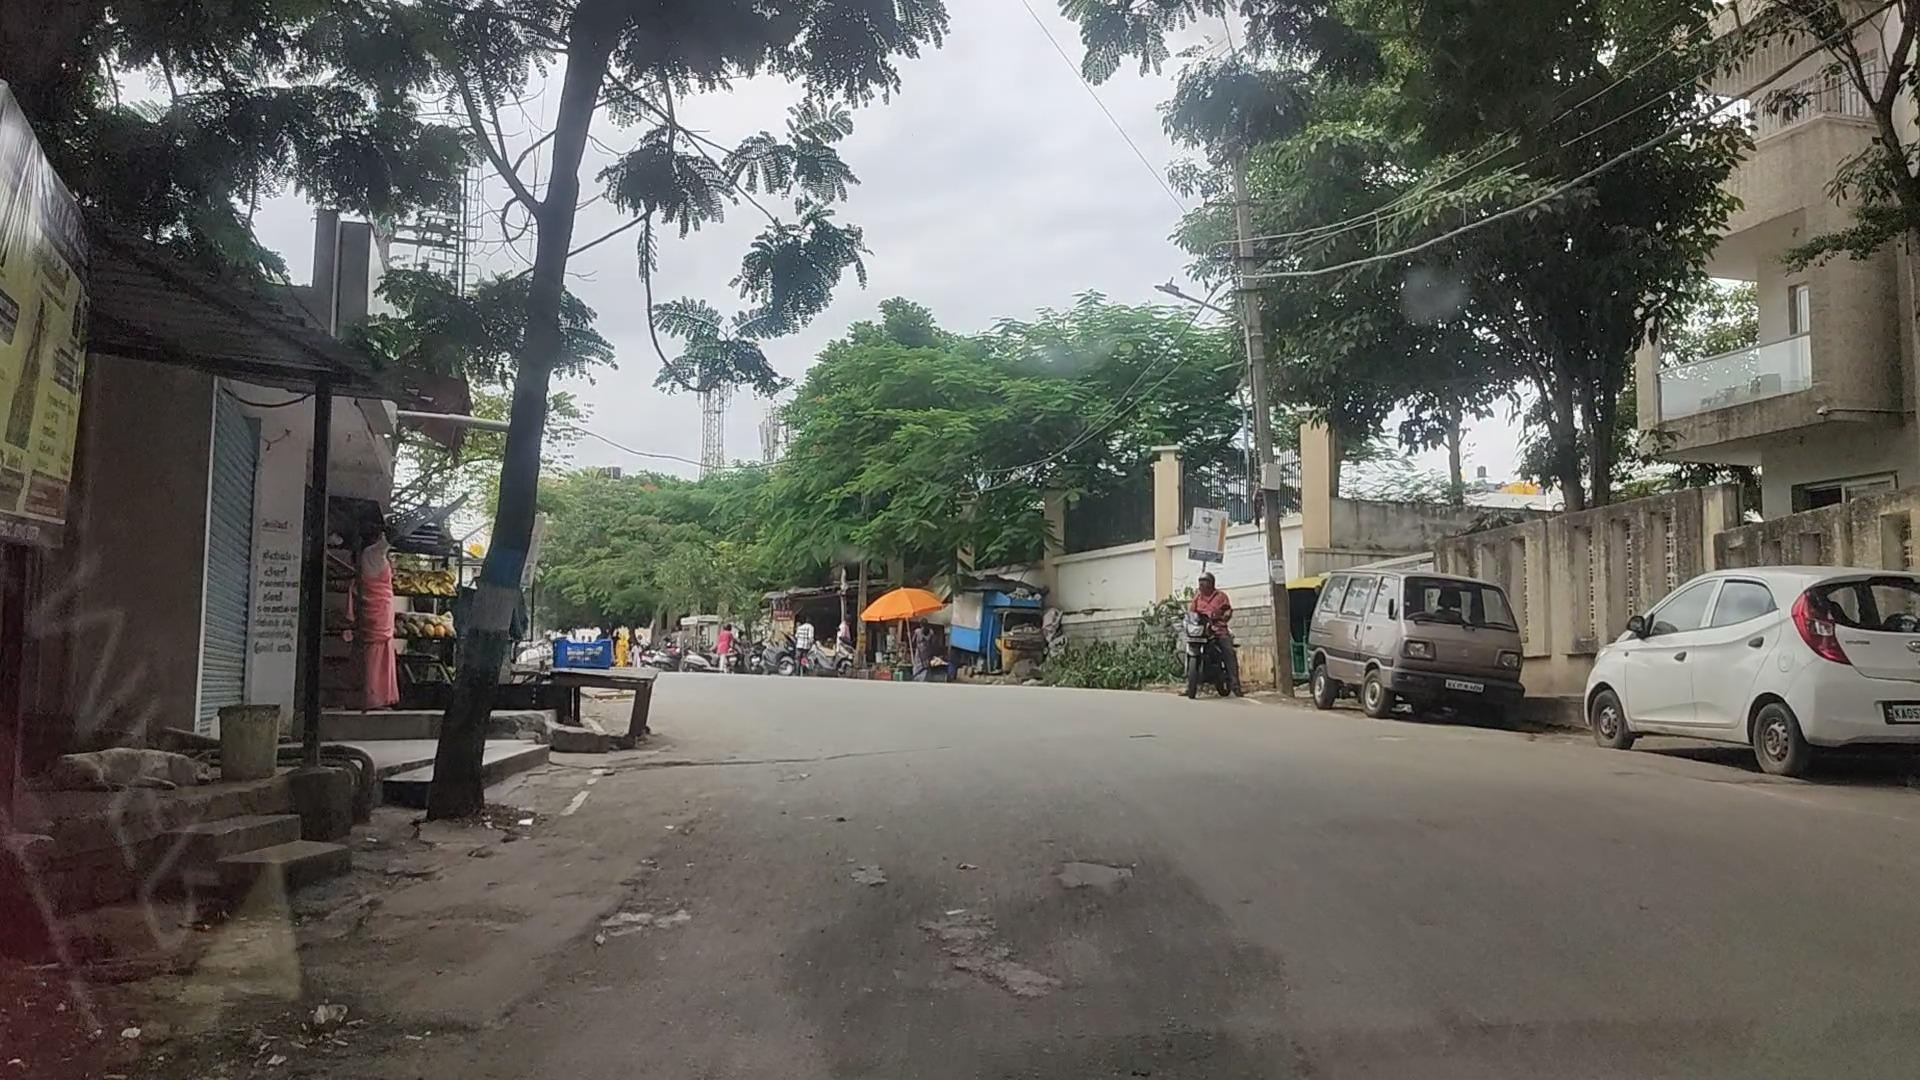RoadDamages: (894, 823, 1176, 1010)
